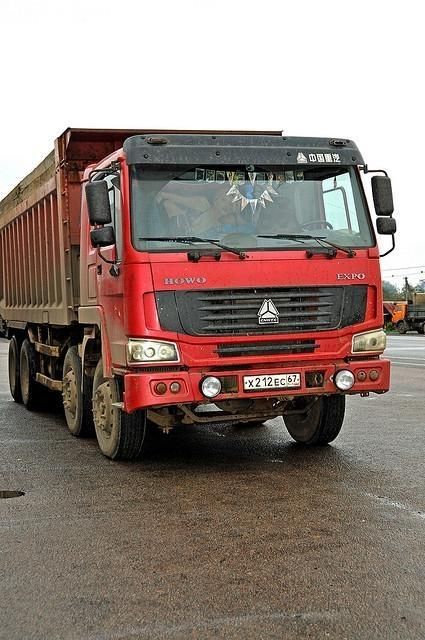truck: (0, 128, 396, 462)
